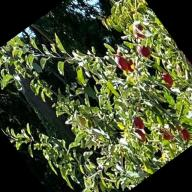Apples: (130, 20, 148, 40), (112, 52, 130, 72), (122, 56, 138, 73), (159, 70, 175, 87), (136, 42, 152, 58), (159, 126, 174, 142), (132, 115, 146, 131), (133, 127, 147, 143), (178, 126, 192, 141)
